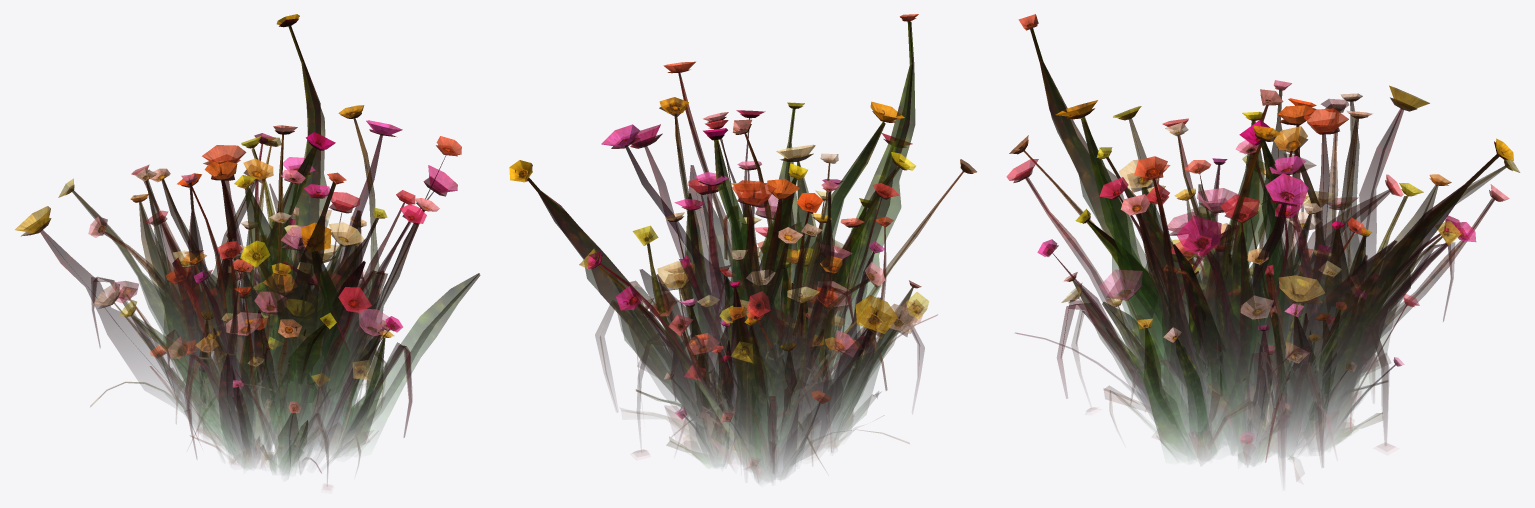
File: ucvobbbia_tier_3.gltf
The picture shows the model from 3 angles, left to right: view 1: azimuth 30°, elevation 25°; view 2: azimuth 150°, elevation 25°; view 3: azimuth 270°, elevation 25°; orthographic projection. The views are drawn at different scales.
Parts seen in each view (by area): view 1: SM_ucvobbbia_VarA, SM_ucvobbbia_VarC, SM_ucvobbbia_VarE, SM_ucvobbbia_VarH, SM_ucvobbbia_VarD, SM_ucvobbbia_VarF, SM_ucvobbbia_VarG; view 2: SM_ucvobbbia_VarA, SM_ucvobbbia_VarC, SM_ucvobbbia_VarE, SM_ucvobbbia_VarD, SM_ucvobbbia_VarF, SM_ucvobbbia_VarH, SM_ucvobbbia_VarG; view 3: SM_ucvobbbia_VarA, SM_ucvobbbia_VarC, SM_ucvobbbia_VarE, SM_ucvobbbia_VarD, SM_ucvobbbia_VarF, SM_ucvobbbia_VarH, SM_ucvobbbia_VarG.
Part boxes in pixels (x1,y1,x2,y2): SM_ucvobbbia_VarA: [58, 105, 461, 473]; SM_ucvobbbia_VarC: [15, 14, 426, 486]; SM_ucvobbbia_VarE: [130, 132, 480, 462]; SM_ucvobbbia_VarH: [138, 160, 439, 465]; SM_ucvobbbia_VarD: [107, 125, 415, 467]; SM_ucvobbbia_VarF: [150, 233, 365, 470]; SM_ucvobbbia_VarG: [199, 277, 394, 464]; SM_ucvobbbia_VarA: [595, 14, 937, 466]; SM_ucvobbbia_VarC: [509, 102, 929, 473]; SM_ucvobbbia_VarE: [616, 101, 904, 467]; SM_ucvobbbia_VarD: [588, 119, 887, 462]; SM_ucvobbbia_VarF: [664, 198, 921, 465]; SM_ucvobbbia_VarH: [665, 112, 976, 476]; SM_ucvobbbia_VarG: [679, 256, 866, 468]; SM_ucvobbbia_VarA: [1006, 14, 1519, 471]; SM_ucvobbbia_VarC: [1057, 80, 1513, 480]; SM_ucvobbbia_VarE: [1055, 100, 1509, 459]; SM_ucvobbbia_VarD: [1146, 89, 1461, 438]; SM_ucvobbbia_VarF: [1063, 208, 1404, 458]; SM_ucvobbbia_VarH: [1009, 98, 1390, 443]; SM_ucvobbbia_VarG: [1106, 255, 1366, 456].
Size of what is drawn, in the model's own units: 0.6915 by 0.6963 by 0.7798.
Materials: 1 (1 with a texture image).
